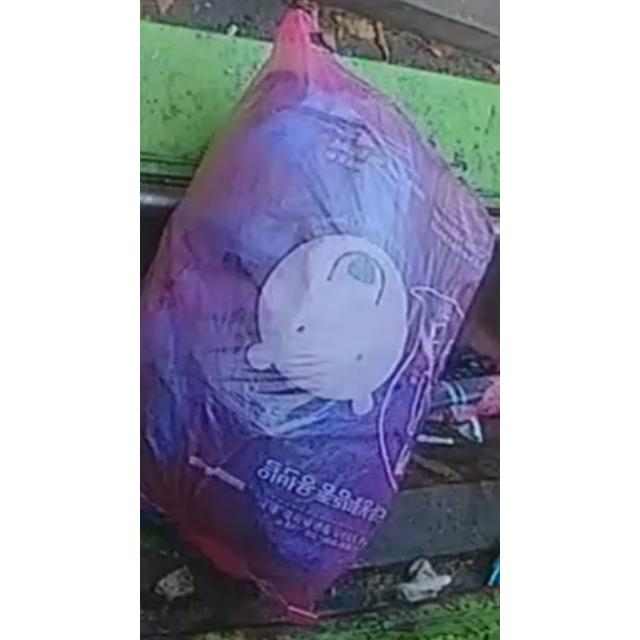other_trashbag: (141, 6, 495, 611)
